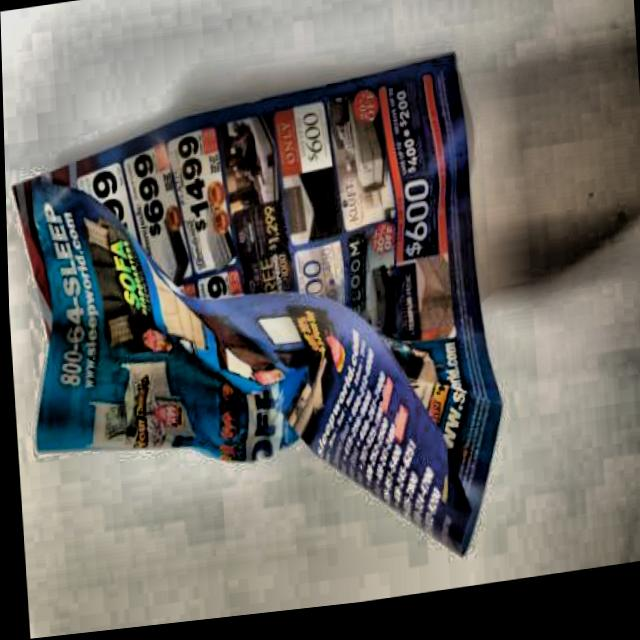Paper: (2, 27, 524, 636)
